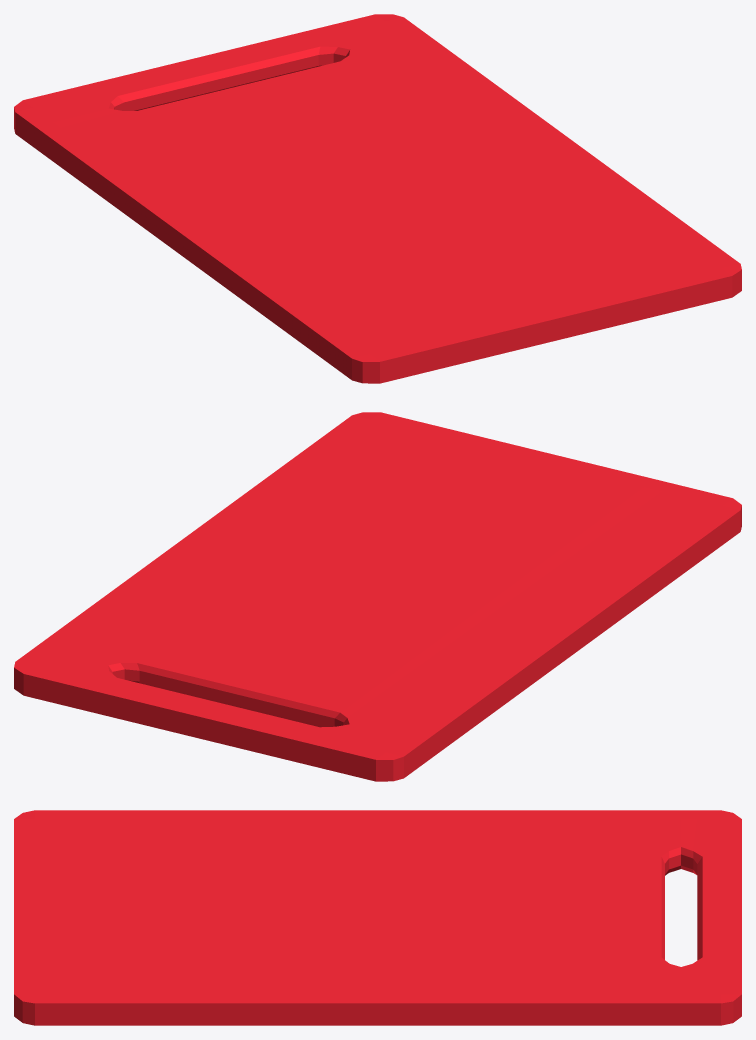
File: snijplankroodglimmend 1.fbx
3 views of the same model, one above another, from view 1: azimuth 30°, elevation 25°; view 2: azimuth 150°, elevation 25°; view 3: azimuth 270°, elevation 25° (orthographic).
Parts seen in each view (by area): view 1: Cube; view 2: Cube; view 3: Cube.
Boxes of the visible parts, box(x1,y1,x2,y2) form: Cube: box(14, 14, 741, 383); Cube: box(14, 412, 741, 781); Cube: box(14, 810, 741, 1025).
Bounding box in the file's own units: 200 × 10.72 × 318.
